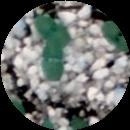Basil: (38, 15, 70, 45), (103, 21, 130, 54), (44, 45, 64, 80)
